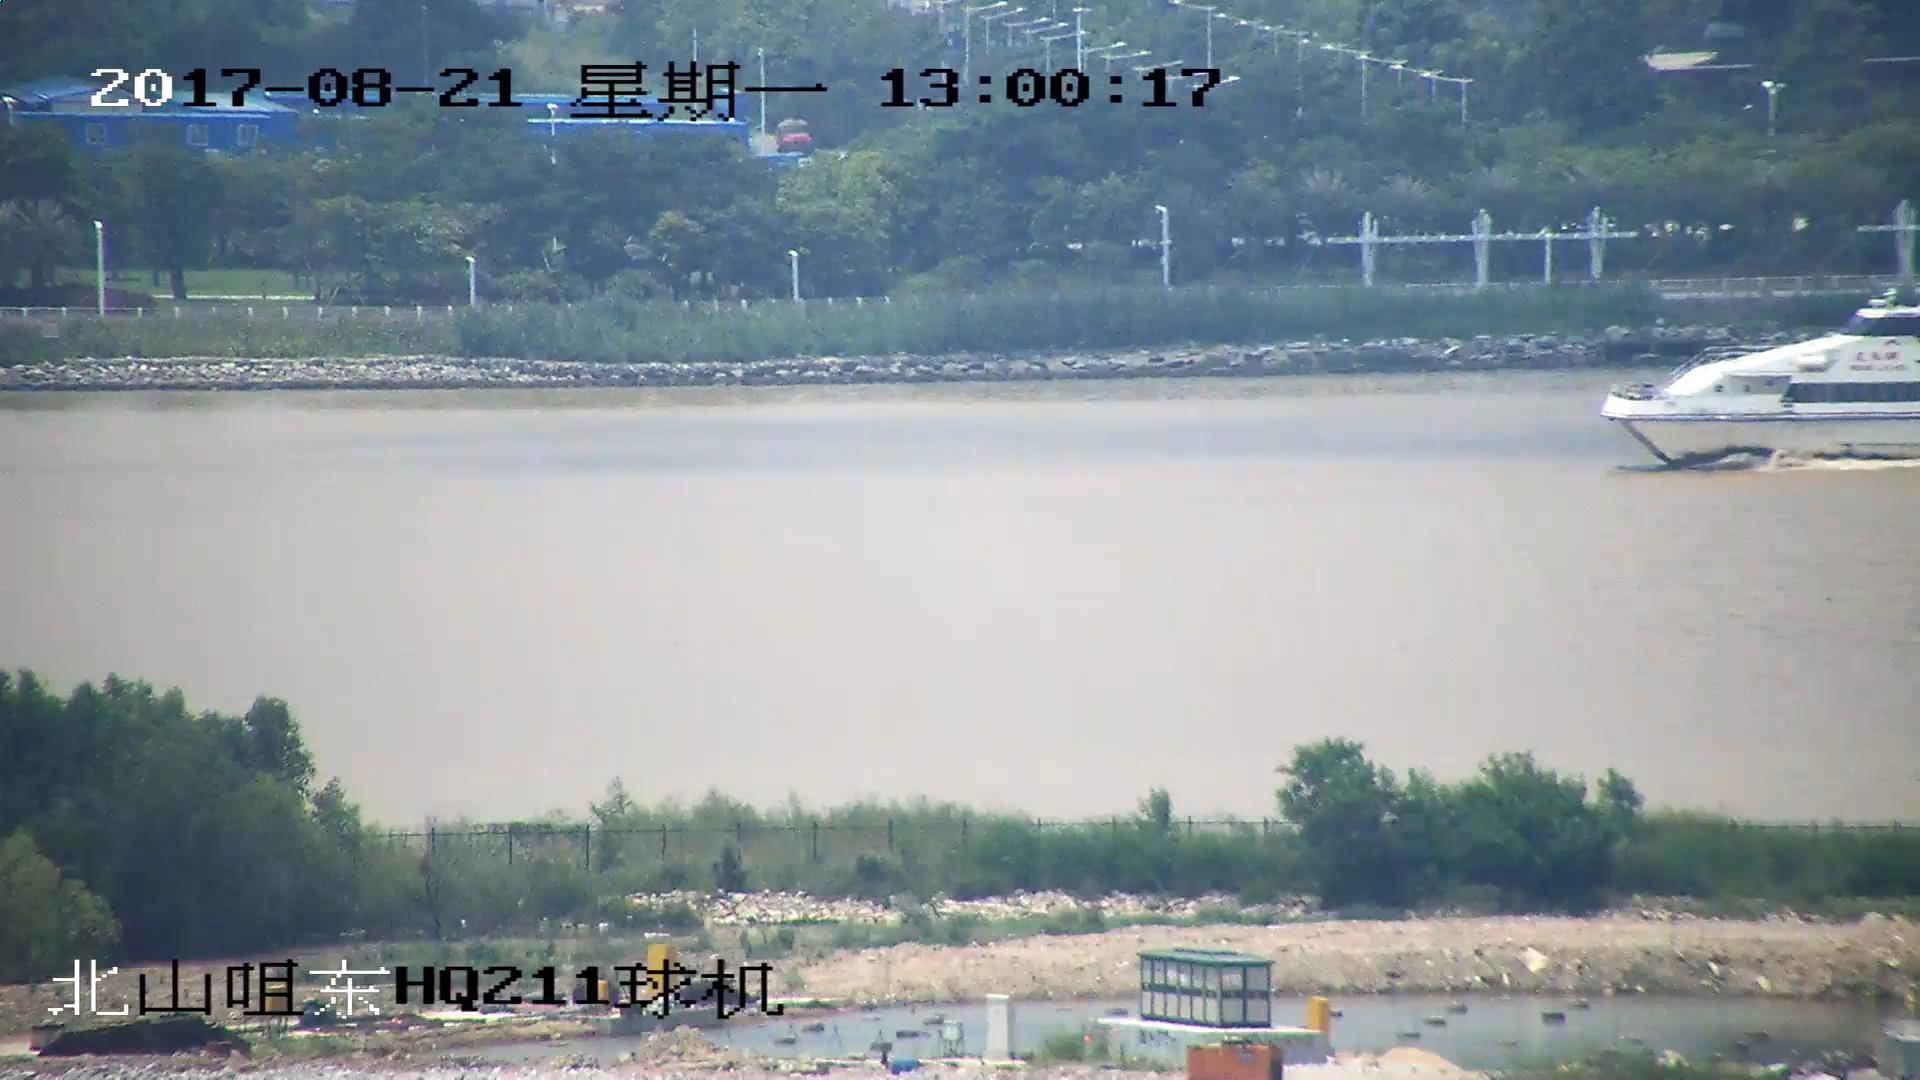passenger ship: (1598, 293, 1920, 463)
